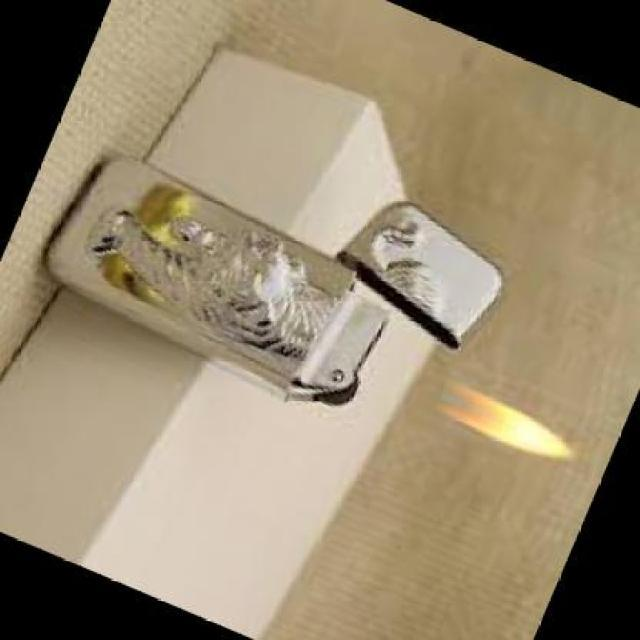Fire: (394, 365, 584, 467)
